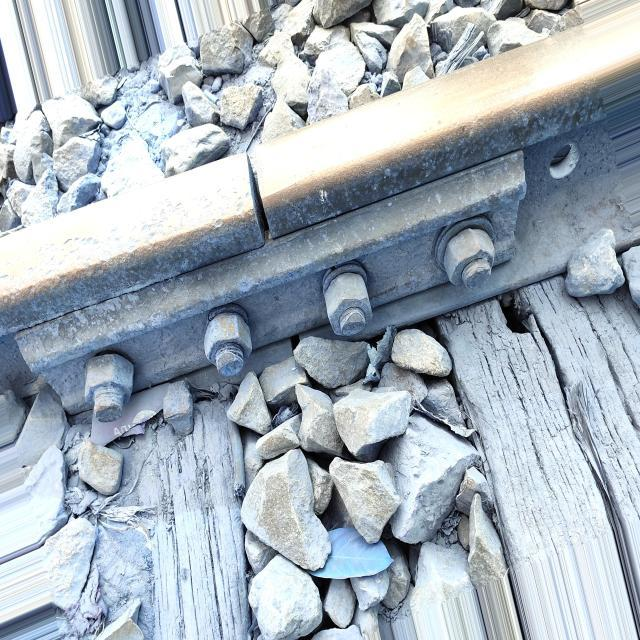Good Joint: (20, 157, 530, 424)
